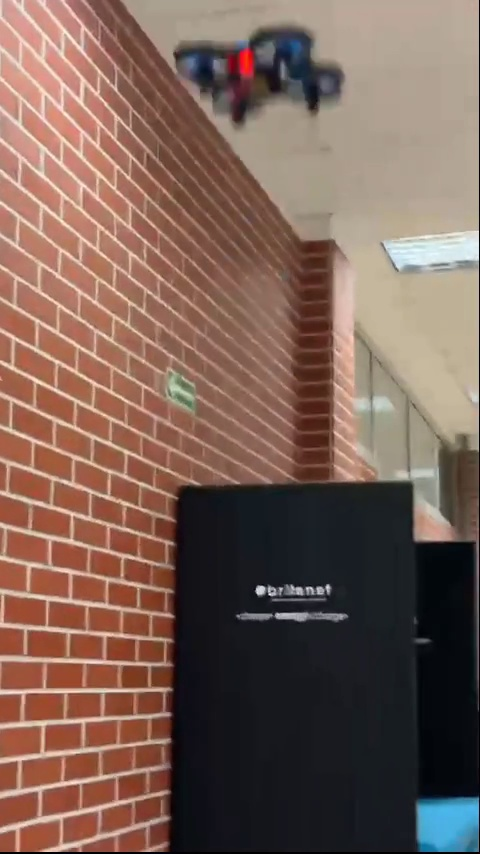drone: (176, 27, 343, 123)
